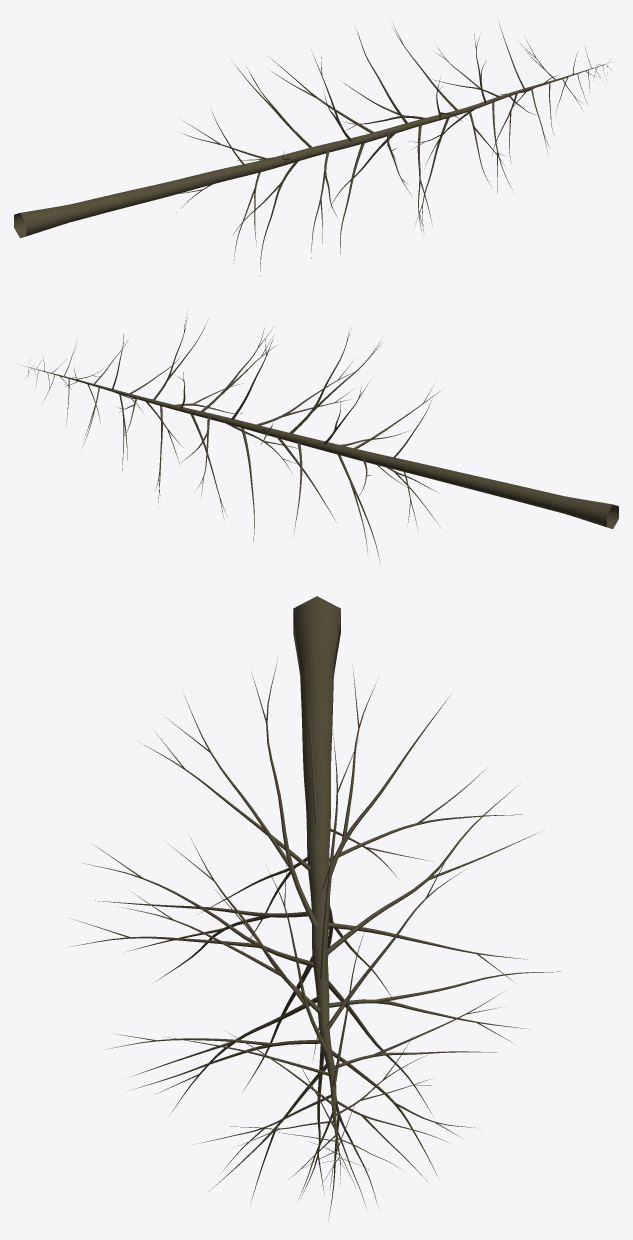
File: fir.fbx
3 renders of one model, top to bottom at view 1: azimuth 30°, elevation 25°; view 2: azimuth 150°, elevation 25°; view 3: azimuth 270°, elevation 25°, orthographic. The views are drawn at different scales.
Parts seen in each view (by area): view 1: fir; view 2: fir; view 3: fir.
Part boxes in pixels (x1,y1,x2,y2): fir: (14, 21, 611, 276); fir: (19, 311, 618, 563); fir: (69, 596, 560, 1220).
Bounding box in the file's own units: 1706 × 1690 × 4620.
